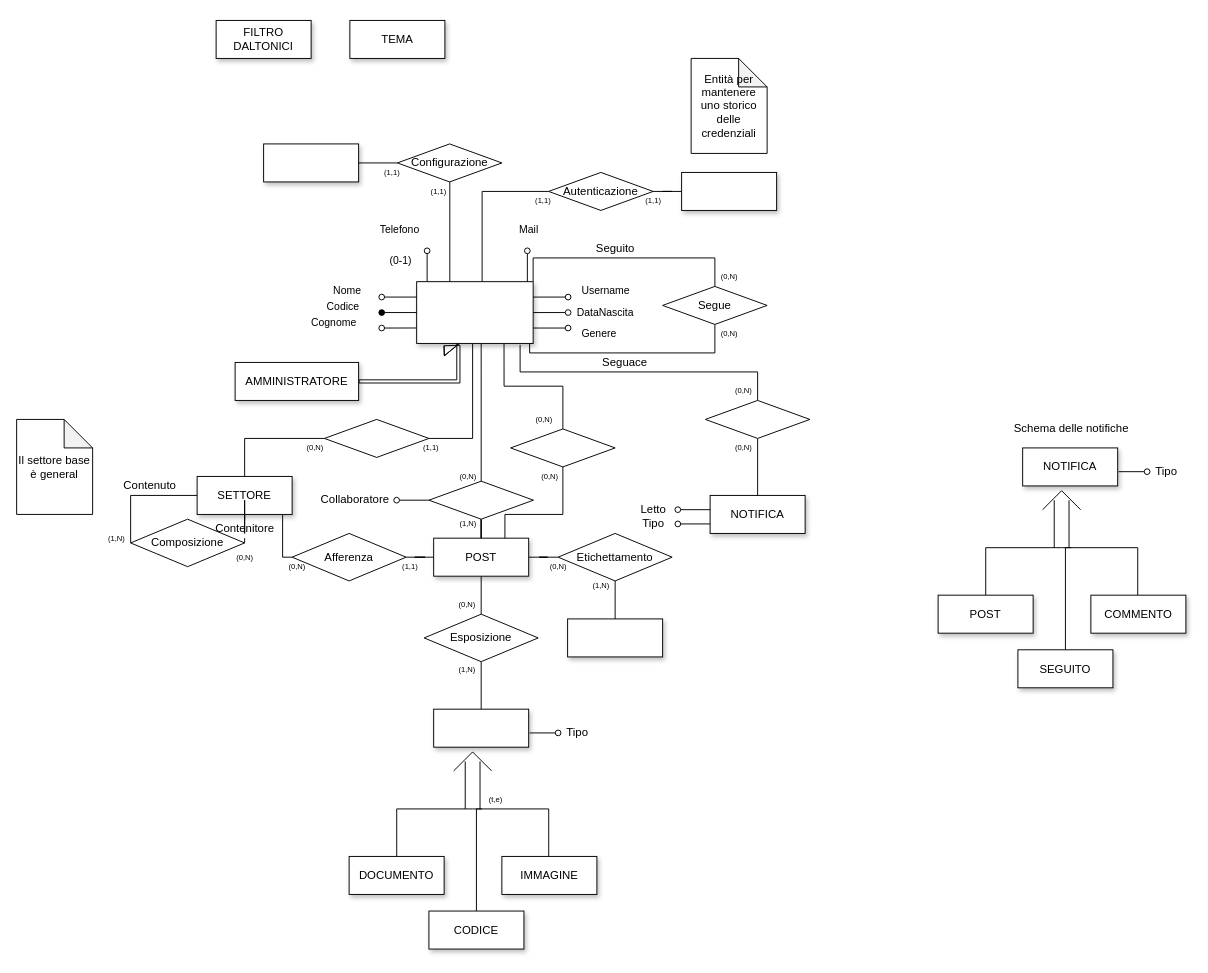
Some shapes in this 1208 by 973 pixel diagram are drawn without their labels. The centre of each missing label's shape, as x and y in pixels:
"ALLEGATO" goes at (481,729).
"Competenza" goes at (376,437).
"CREDENZIALI" goes at (729,192).
"IMPOSTAZIONI" goes at (311,164).
"Pubblicazione" goes at (480,499).
"Ricezione" goes at (757,418).
"Salvataggio" goes at (562,447).
"TAG" goes at (615,639).
"Utente" goes at (475,313).
